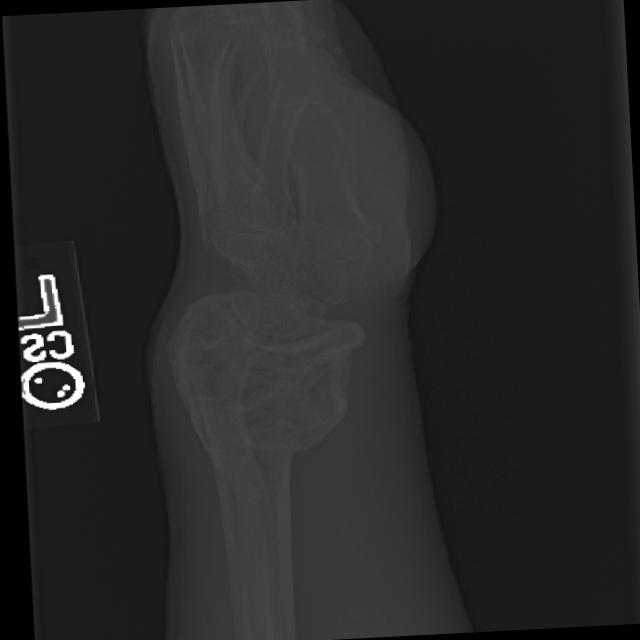wrist positive: (163, 280, 405, 496)
